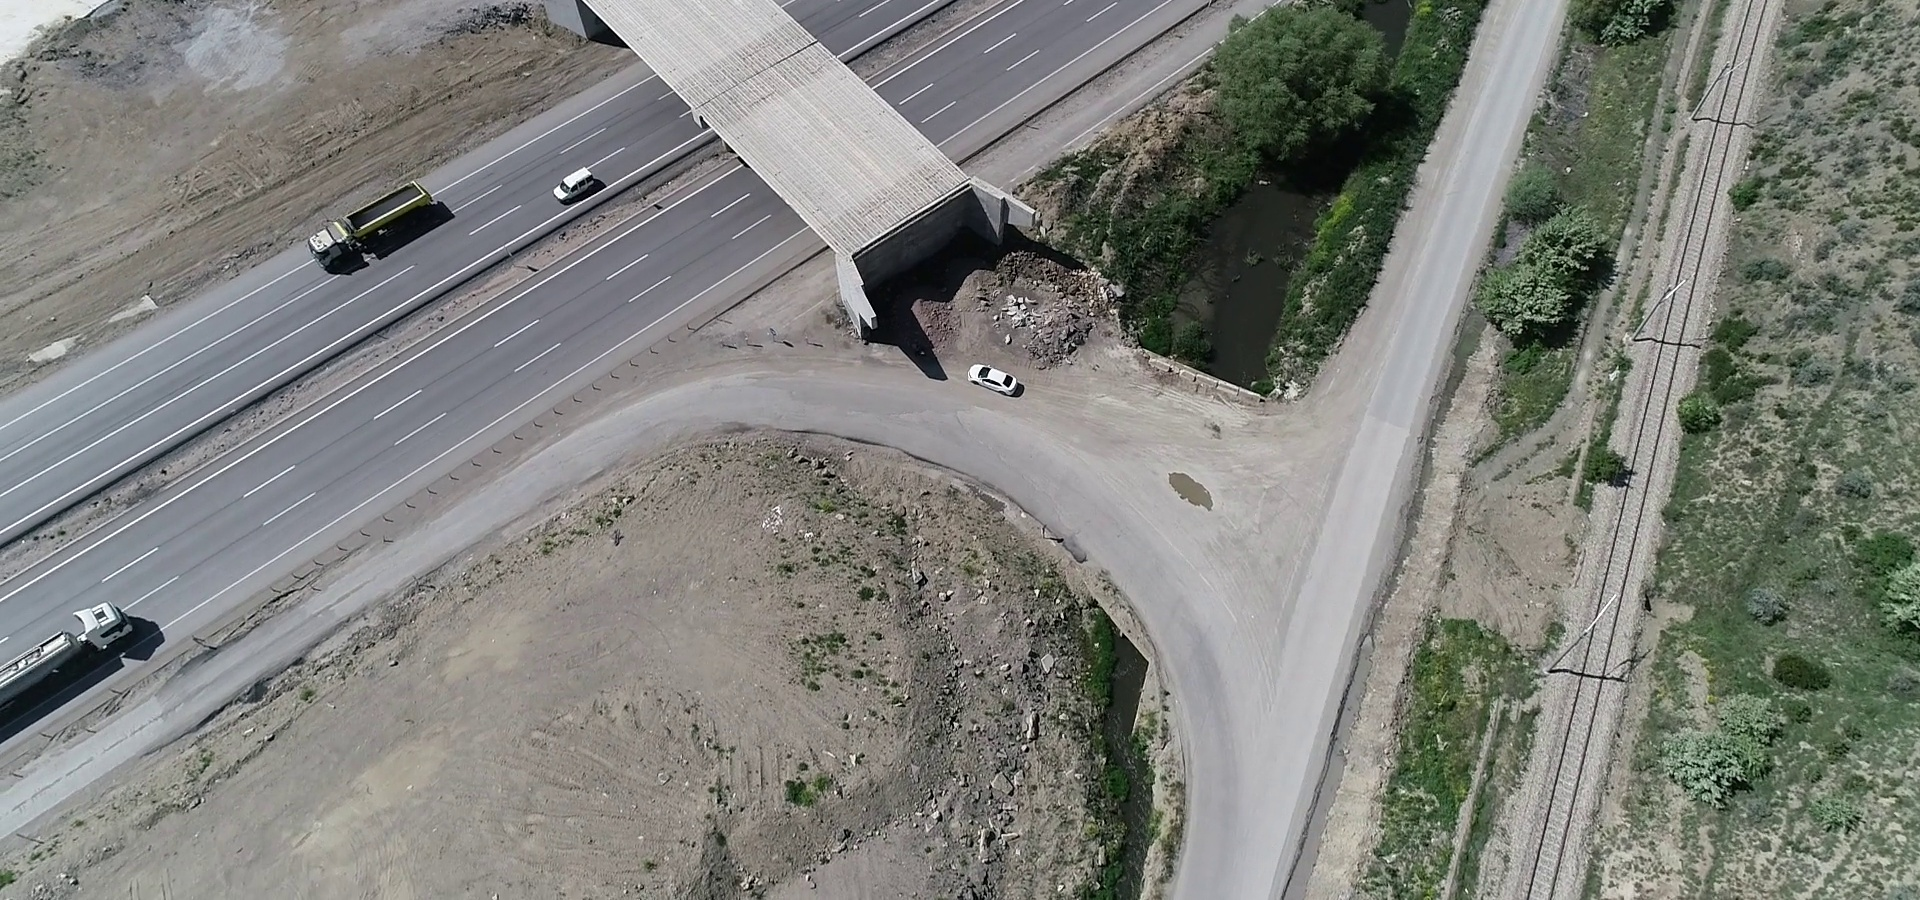araba: (950, 344, 1032, 408), (549, 156, 617, 220)
kamyon: (1, 591, 142, 715), (301, 167, 442, 276)
